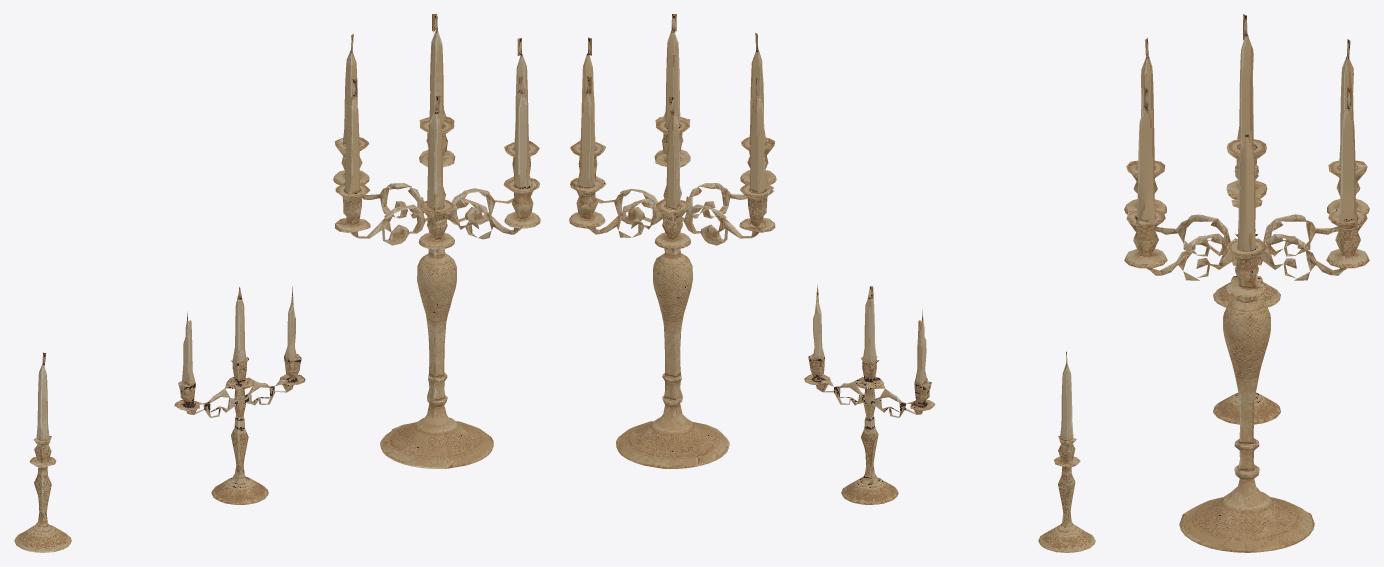
The model's file is brass_candleholders.glb.
The picture shows the model from 3 angles, left to right: view 1: azimuth 30°, elevation 25°; view 2: azimuth 150°, elevation 25°; view 3: azimuth 270°, elevation 25°; orthographic projection. The views are drawn at different scales.
Parts seen in each view (by area): view 1: mesh; view 2: mesh; view 3: mesh.
Part boxes in pixels (x1=…): mesh: x1=14, y1=14, x2=540, y2=552; mesh: x1=569, y1=14, x2=1095, y2=552; mesh: x1=1124, y1=14, x2=1369, y2=552.
Bounding box in the file's own units: 73.8 × 58.47 × 25.58.
1 material, 1 textured.
